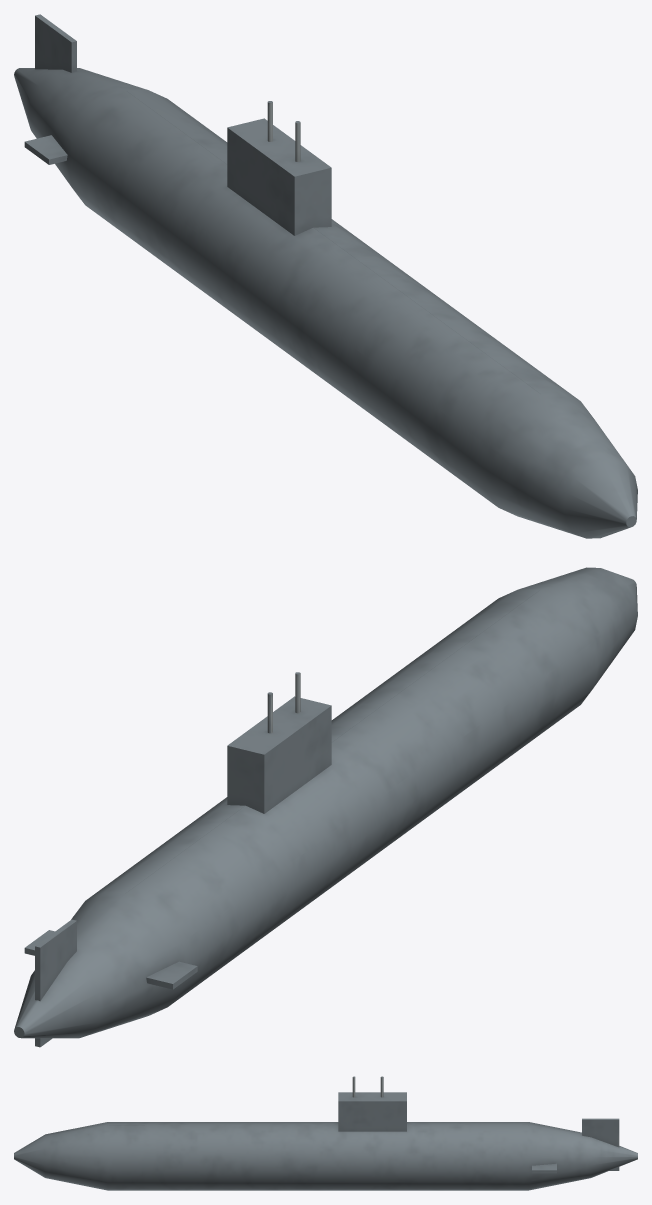
Rendered from naval-submarine.fbx.
3 renders of one model, top to bottom at view 1: azimuth 30°, elevation 25°; view 2: azimuth 150°, elevation 25°; view 3: azimuth 270°, elevation 25°, orthographic. The views are drawn at different scales.
Visible parts, largest first — view 1: naval-submarine; view 2: naval-submarine; view 3: naval-submarine.
Boxes of the visible parts, bbox=[...] form: naval-submarine: bbox=[14, 14, 637, 538]; naval-submarine: bbox=[14, 567, 637, 1047]; naval-submarine: bbox=[14, 1076, 637, 1190].
Bounding box in the file's own units: 28 × 39 × 200.
1 material, 1 textured.
